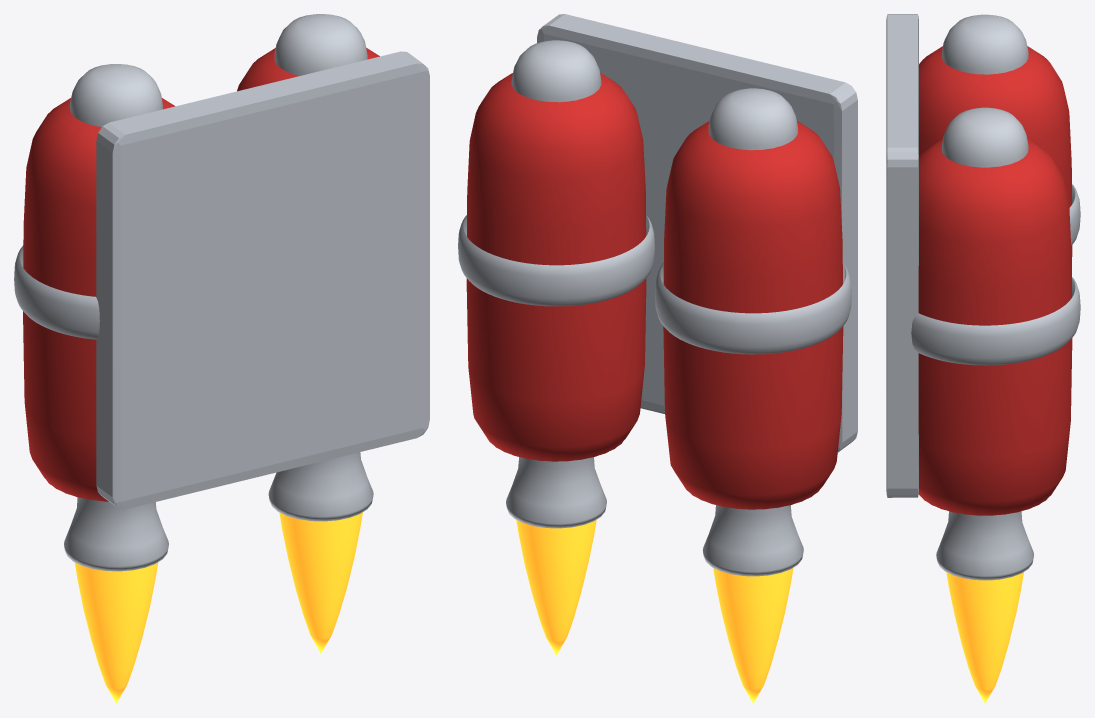
File: jetpack.glb
3 views of the same model, side by side, from view 1: azimuth 30°, elevation 25°; view 2: azimuth 150°, elevation 25°; view 3: azimuth 270°, elevation 25° (orthographic). The views are drawn at different scales.
Parts seen in each view (by area): view 1: jetpack; view 2: jetpack; view 3: jetpack.
Boxes of the visible parts, <box> form: jetpack: <box>14,14,429,703</box>; jetpack: <box>458,14,857,703</box>; jetpack: <box>886,14,1080,703</box>.
Bounding box in the file's own units: 0.747 × 1.18 × 0.3533.
